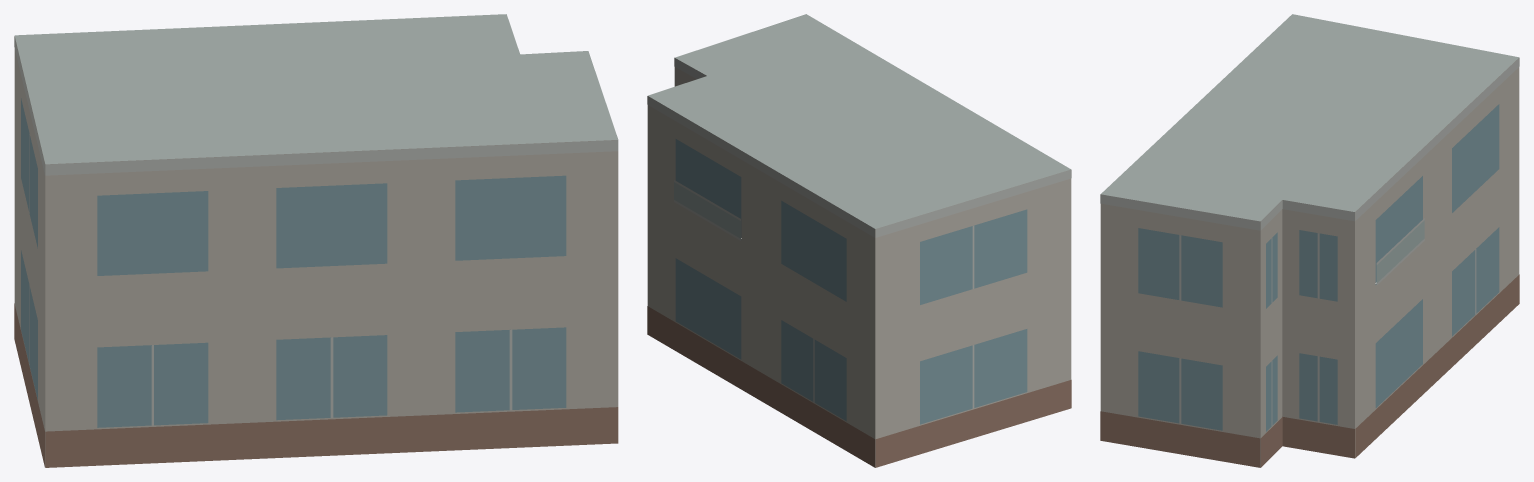
File: survey-upis-32718731.glb
3 views of the same model, side by side, from view 1: azimuth 30°, elevation 25°; view 2: azimuth 150°, elevation 25°; view 3: azimuth 270°, elevation 25° (orthographic). The views are drawn at different scales.
Parts seen in each view (by area): view 1: survey-upis-32718731.tmp; view 2: survey-upis-32718731.tmp; view 3: survey-upis-32718731.tmp.
Boxes of the visible parts, box(x1,y1,x2,y2) form: survey-upis-32718731.tmp: box(14, 14, 618, 467); survey-upis-32718731.tmp: box(647, 14, 1071, 467); survey-upis-32718731.tmp: box(1100, 14, 1519, 467).
Size of the model in its own units: 11.75 by 6.5 by 10.03.
